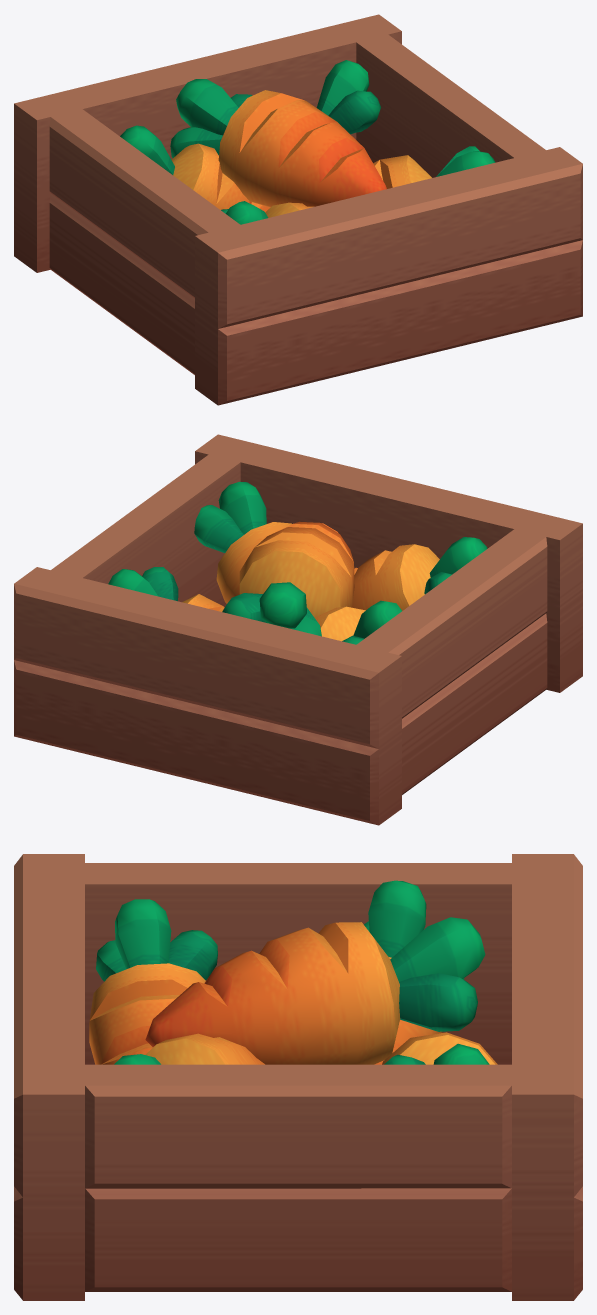
Rendered from crate_carrots.gltf.
3 views of the same model, one above another, from view 1: azimuth 30°, elevation 25°; view 2: azimuth 150°, elevation 25°; view 3: azimuth 270°, elevation 25° (orthographic). The views are drawn at different scales.
Parts seen in each view (by area): view 1: crate_carrots; view 2: crate_carrots; view 3: crate_carrots.
Boxes of the visible parts, <box> form: crate_carrots: <box>14,14,582,405</box>; crate_carrots: <box>14,434,582,825</box>; crate_carrots: <box>14,854,582,1300</box>.
Bounding box in the file's own units: 2 × 0.9432 × 2.
1 material, 1 textured.
